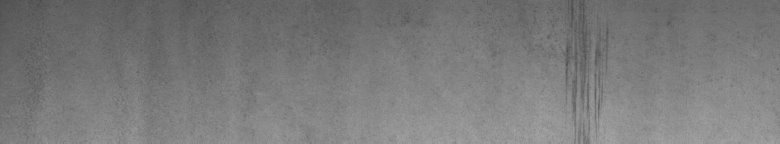ka: (547, 4, 603, 119)
